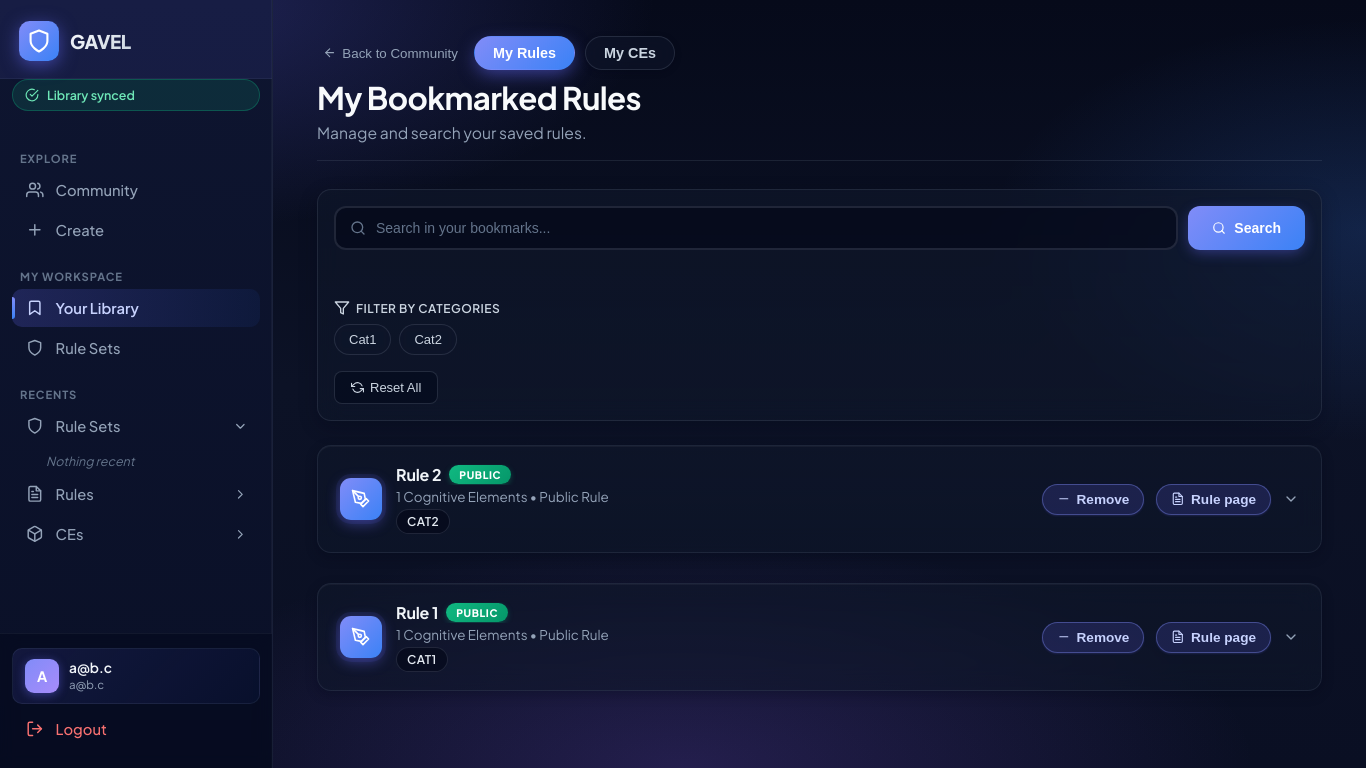
Test: BookmarksRules — server-side search › runs searchBookmarks when a query is typed and shows the results header
The width and height of the screenshot is (1366, 768).
Expected: the heading "Rule 1 Public" is shown, x1=396 y1=602 x2=508 y2=623
Type "found" into the field with placeholder "Search in your bookmarks..." at [764, 228], box x1=366 y1=208 x2=1162 y2=248
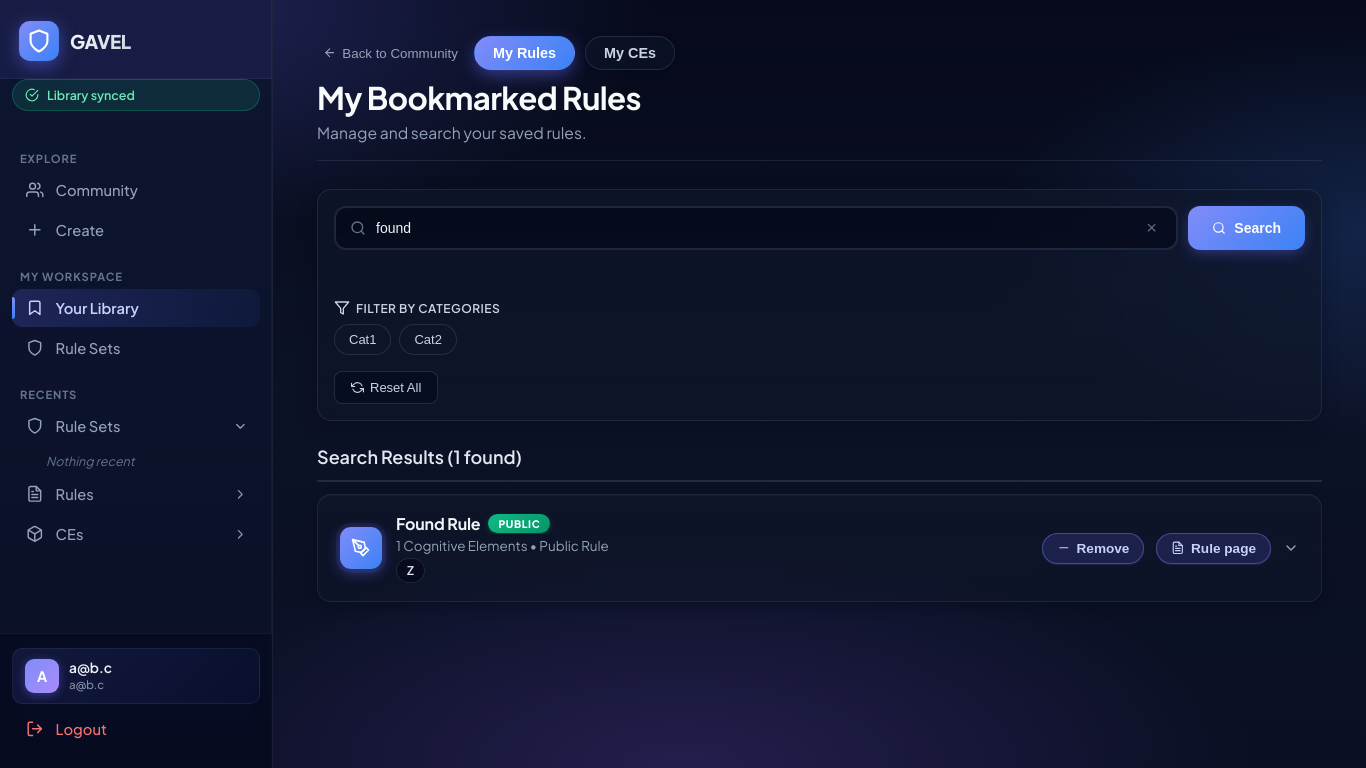
Now the heading "Search Results (1 found)" is shown, box x1=317 y1=445 x2=522 y2=468
Now the heading "Found Rule Public" is shown, box x1=396 y1=513 x2=550 y2=534
